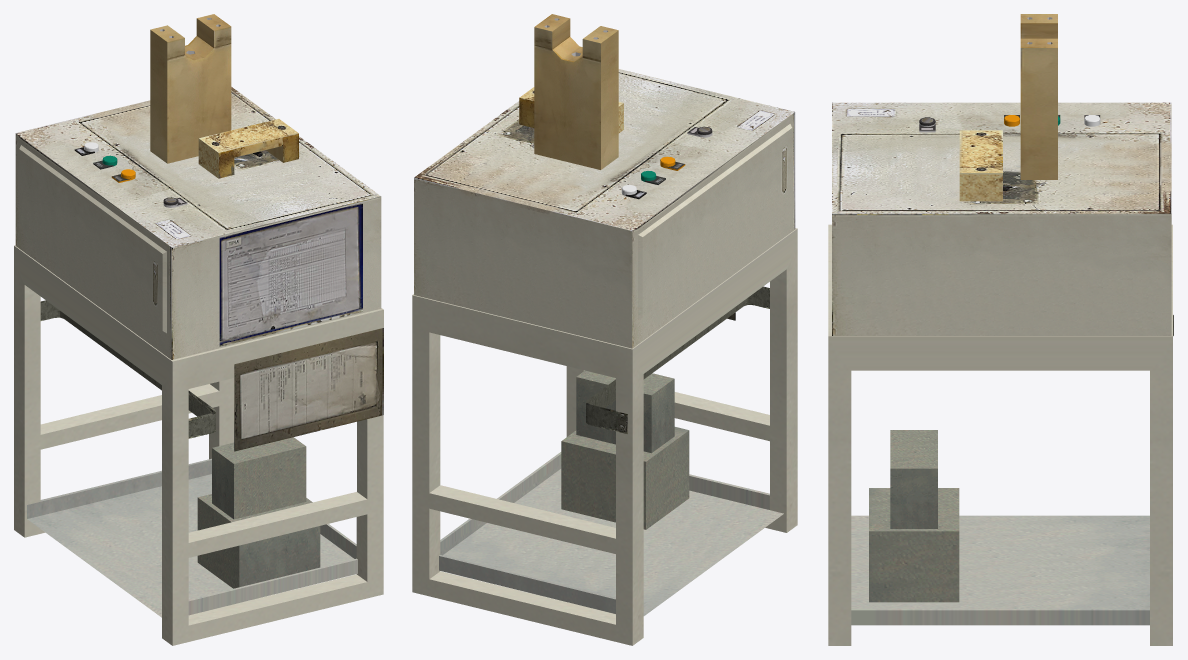
Rendered from caozuo07.FBX.
3 views of the same model, side by side, from view 1: azimuth 30°, elevation 25°; view 2: azimuth 150°, elevation 25°; view 3: azimuth 270°, elevation 25° (orthographic). The views are drawn at different scales.
Parts seen in each view (by area): view 1: YF_Model_caozuo07; view 2: YF_Model_caozuo07; view 3: YF_Model_caozuo07.
Part boxes in pixels (bbox=[...]): YF_Model_caozuo07: bbox=[14, 14, 383, 645]; YF_Model_caozuo07: bbox=[412, 14, 797, 645]; YF_Model_caozuo07: bbox=[828, 14, 1173, 645].
Bounding box in the file's own units: 66.62 × 155 × 86.4.
